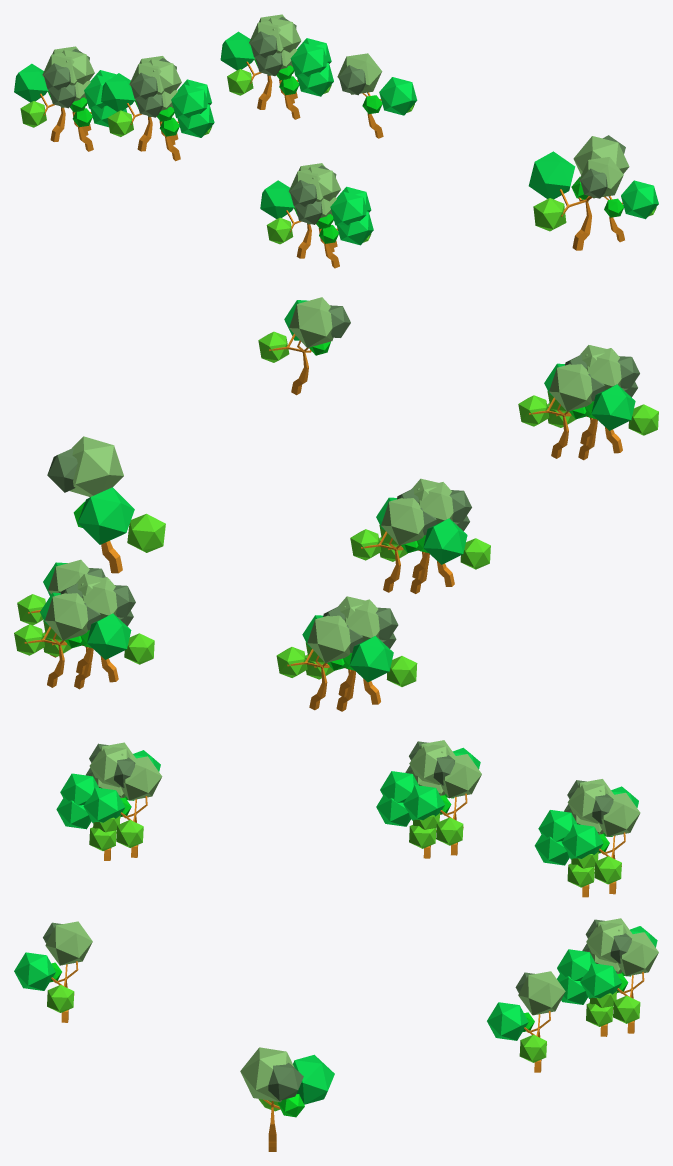
The model's file is Mountain Tree.fbx.
The picture shows the model from 3 angles, top to bottom: view 1: azimuth 30°, elevation 25°; view 2: azimuth 150°, elevation 25°; view 3: azimuth 270°, elevation 25°; orthographic projection. The views are drawn at different scales.
Visible parts, largest first — view 1: Cube.001; view 2: Cube.001; view 3: Cube.001.
Boxes of the visible parts, bbox=[...] form: Cube.001: bbox=[14, 14, 658, 268]; Cube.001: bbox=[14, 297, 658, 711]; Cube.001: bbox=[14, 740, 658, 1151].
Bounding box in the file's own units: 798 × 361 × 925.
